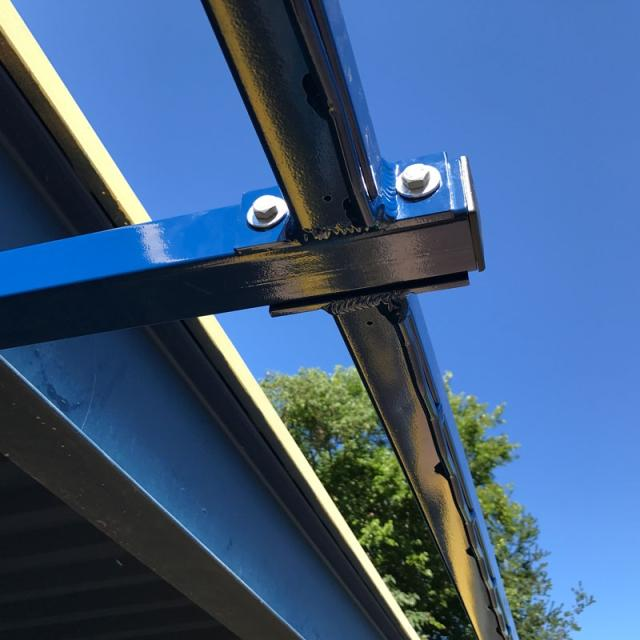blur bolt: (402, 160, 432, 190), (251, 191, 279, 221)
